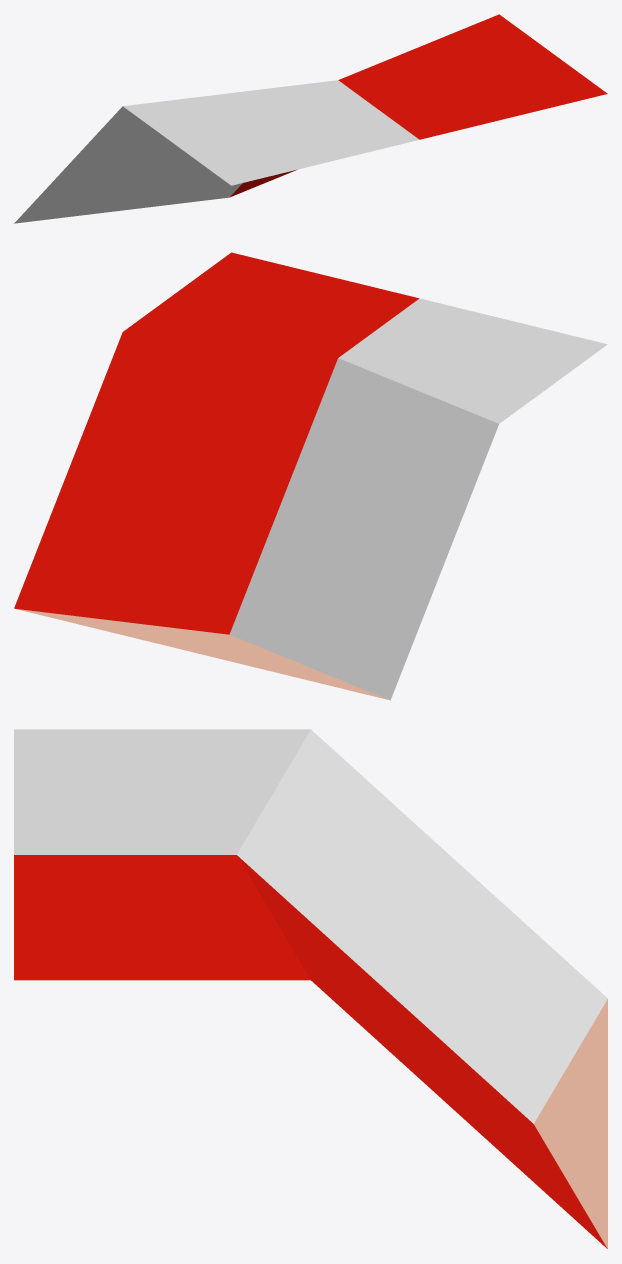
File: terrain_sideCliff_shapes.glb
3 views of the same model, one above another, from view 1: azimuth 30°, elevation 25°; view 2: azimuth 150°, elevation 25°; view 3: azimuth 270°, elevation 25° (orthographic). The views are drawn at different scales.
Visible parts, largest first — view 1: terrain_sideCliff; view 2: terrain_sideCliff; view 3: terrain_sideCliff.
Part boxes in pixels (x1=…): terrain_sideCliff: x1=14, y1=14, x2=607, y2=223; terrain_sideCliff: x1=14, y1=252, x2=607, y2=700; terrain_sideCliff: x1=14, y1=729, x2=607, y2=1248.
Size of the model in its own units: 1 by 0.5 by 1.
